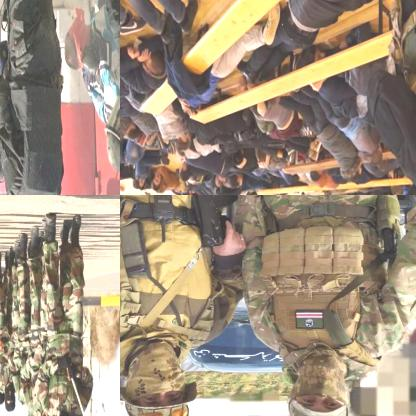rifle: (173, 195, 245, 255)
